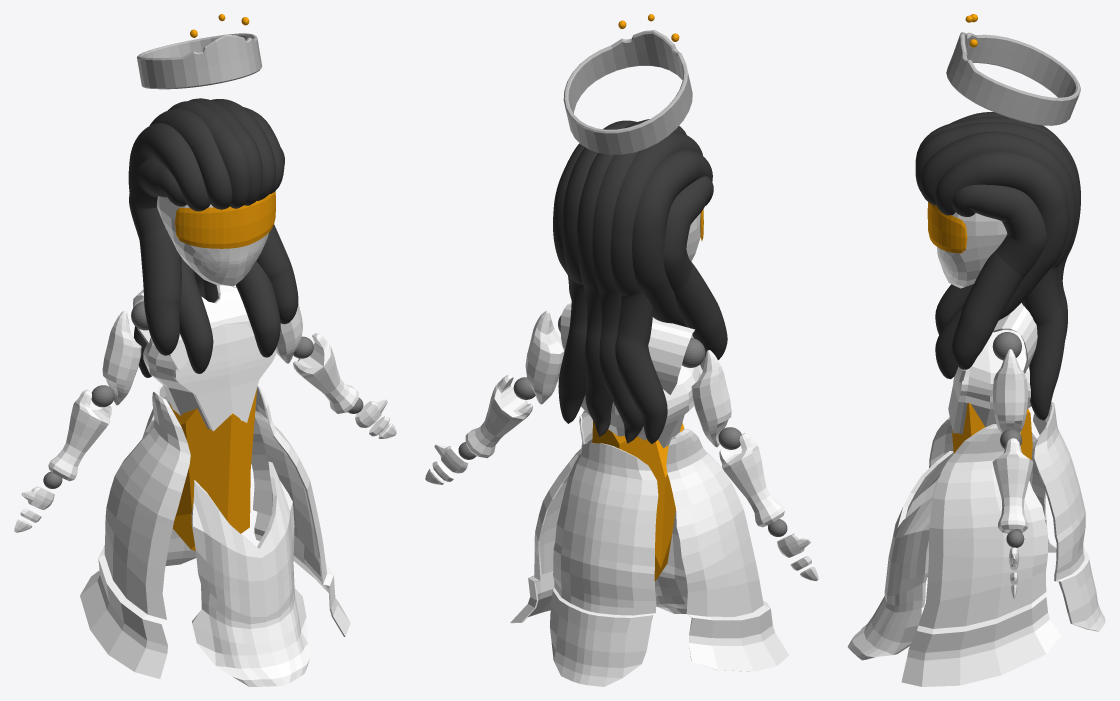
File: princess_big_hair.fbx
3 renders of one model, left to right at view 1: azimuth 30°, elevation 25°; view 2: azimuth 150°, elevation 25°; view 3: azimuth 270°, elevation 25°, orthographic. The views are drawn at different scales.
Parts seen in each view (by area): view 1: hair, front plate, right plate, body, left plate, crystal, crown, glass, head, right forearm, left forearm, right arm (+6 smaller); view 2: hair, back plate, right plate, crown, left plate, crystal, right forearm, left forearm, shoulder, left arm, right arm, body (+4 smaller); view 3: hair, left plate, crown, front plate, back plate, body, head, left forearm, left arm, glass, right plate, shoulder (+2 smaller).
Part boxes in pixels (x1=…): hair: x1=128, y1=98, x2=298, y2=377; front plate: x1=191, y1=461, x2=309, y2=686; right plate: x1=80, y1=391, x2=190, y2=678; body: x1=143, y1=324, x2=276, y2=431; left plate: x1=251, y1=382, x2=350, y2=636; crystal: x1=170, y1=389, x2=256, y2=550; crown: x1=137, y1=33, x2=262, y2=89; glass: x1=175, y1=191, x2=275, y2=248; head: x1=156, y1=196, x2=268, y2=286; right forearm: x1=48, y1=389, x2=111, y2=481; left forearm: x1=293, y1=333, x2=358, y2=413; right arm: x1=102, y1=310, x2=141, y2=405; hair: x1=553, y1=119, x2=727, y2=444; back plate: x1=550, y1=443, x2=658, y2=686; right plate: x1=666, y1=428, x2=788, y2=671; crown: x1=563, y1=30, x2=692, y2=154; left plate: x1=510, y1=410, x2=592, y2=623; crystal: x1=592, y1=421, x2=684, y2=581; right forearm: x1=719, y1=433, x2=784, y2=527; left forearm: x1=465, y1=375, x2=532, y2=458; shoulder: x1=560, y1=303, x2=694, y2=394; left arm: x1=525, y1=310, x2=564, y2=404; right arm: x1=691, y1=350, x2=731, y2=447; body: x1=581, y1=365, x2=702, y2=448; hair: x1=915, y1=112, x2=1080, y2=420; left plate: x1=901, y1=424, x2=1060, y2=686; crown: x1=946, y1=32, x2=1080, y2=125; front plate: x1=847, y1=451, x2=953, y2=660; back plate: x1=1033, y1=401, x2=1105, y2=631; body: x1=948, y1=330, x2=1031, y2=434; head: x1=937, y1=212, x2=1007, y2=288; left forearm: x1=992, y1=438, x2=1033, y2=533; left arm: x1=993, y1=349, x2=1027, y2=433; glass: x1=927, y1=202, x2=967, y2=253; right plate: x1=927, y1=417, x2=1056, y2=577; shoulder: x1=993, y1=303, x2=1037, y2=373.
Bounding box in the file's own units: 902 × 1413 × 525.
